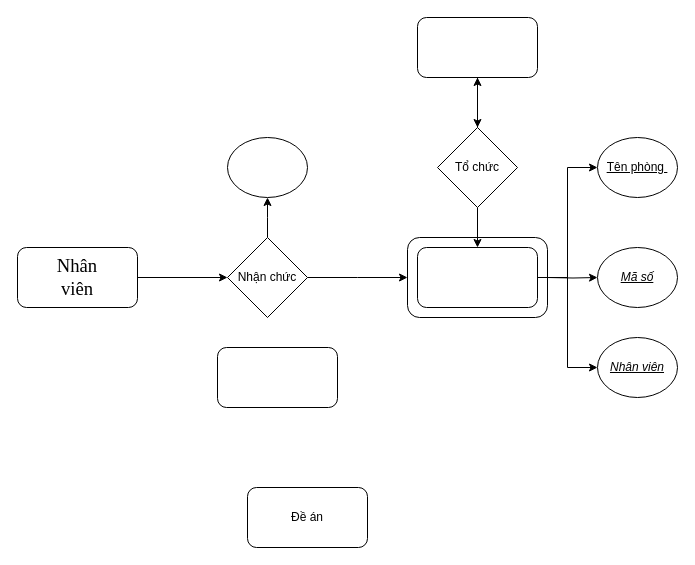
Some shapes in this 695 by 565 pixel diagram are drawn without their labels. Each missing label, with the centre of its shape:
"Công ty" goes at [477,47].
"Ngày nhận chức trưởng phòng" goes at [267,167].
"Phòng ban" goes at [477,277].
